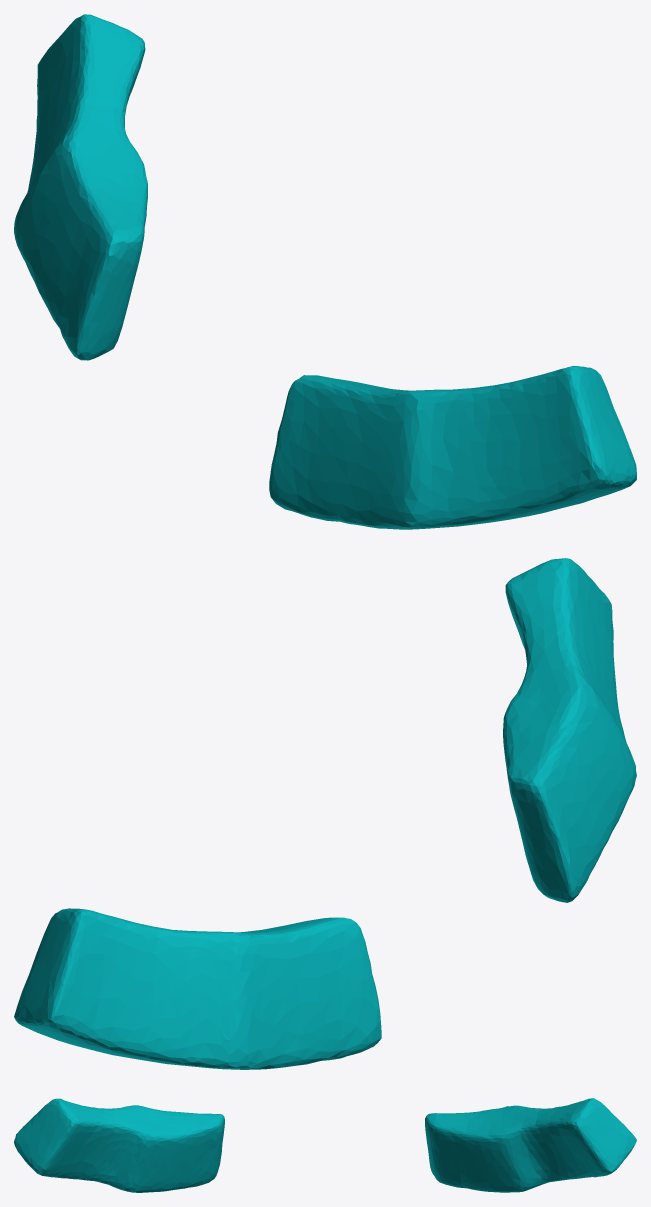
The picture shows the model from 3 angles, top to bottom: view 1: azimuth 30°, elevation 25°; view 2: azimuth 150°, elevation 25°; view 3: azimuth 270°, elevation 25°; orthographic projection. The views are drawn at different scales.
Parts seen in each view (by area): view 1: 22.obj; view 2: 22.obj; view 3: 22.obj.
Boxes of the visible parts, x1,y1,x2,y2 form: 22.obj: (14,14,636,529); 22.obj: (14,558,636,1069); 22.obj: (14,1098,636,1192).
Size of the model in its own units: 1631 by 1568 by 7621.
